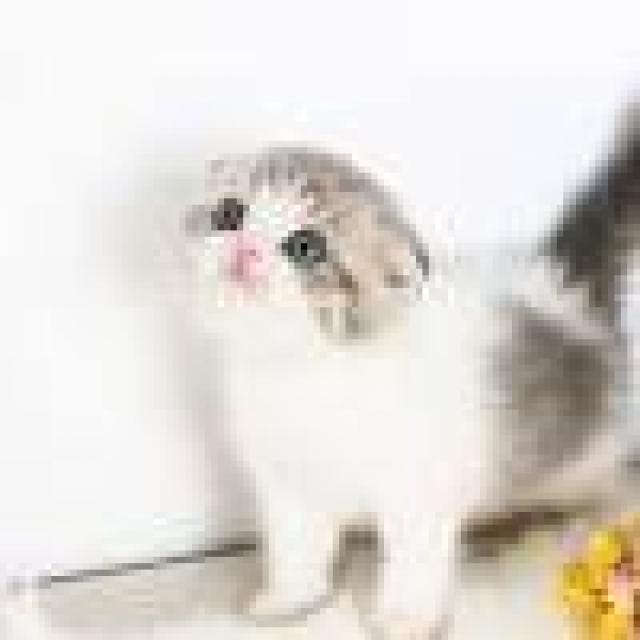cat-face: (175, 106, 516, 434)
